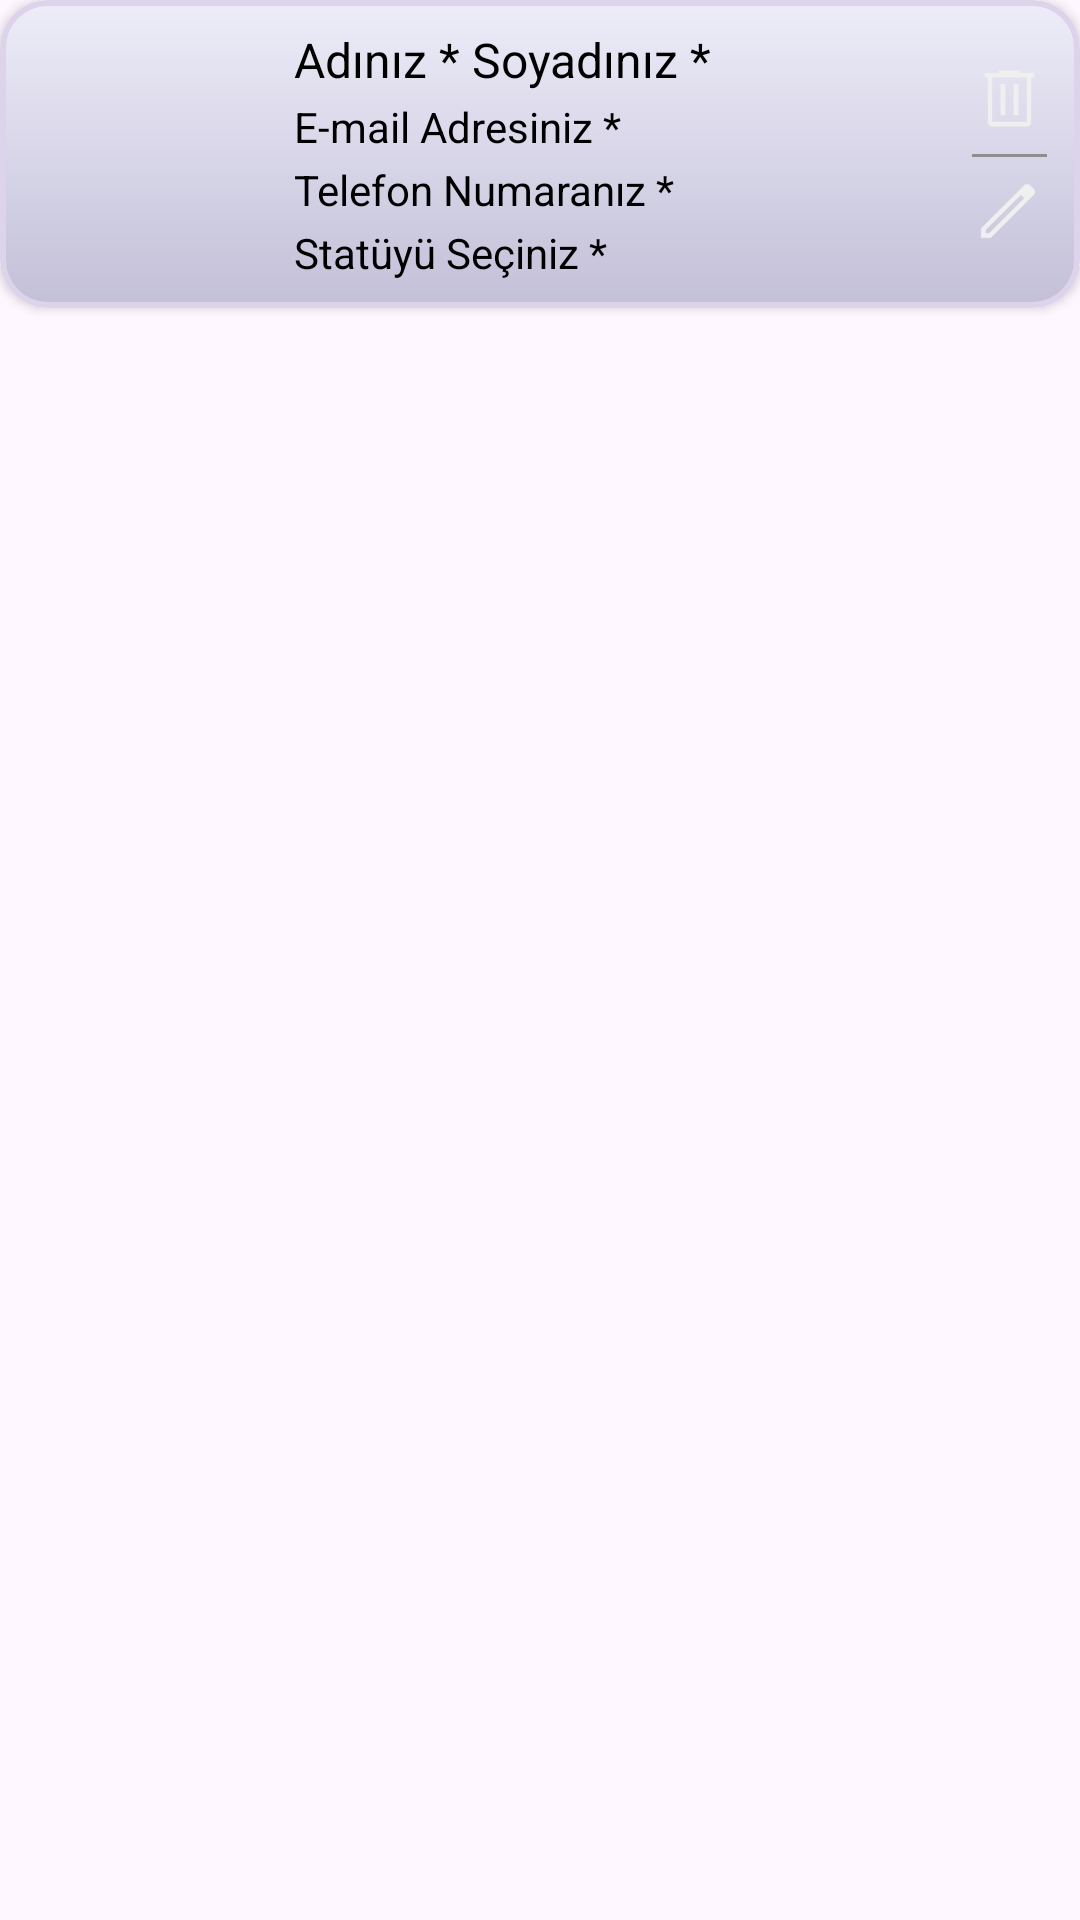

Icon click points for this 1080 x 1920 phone screenshot, format (x=x, y=y):
edit: (x=1008, y=211)
